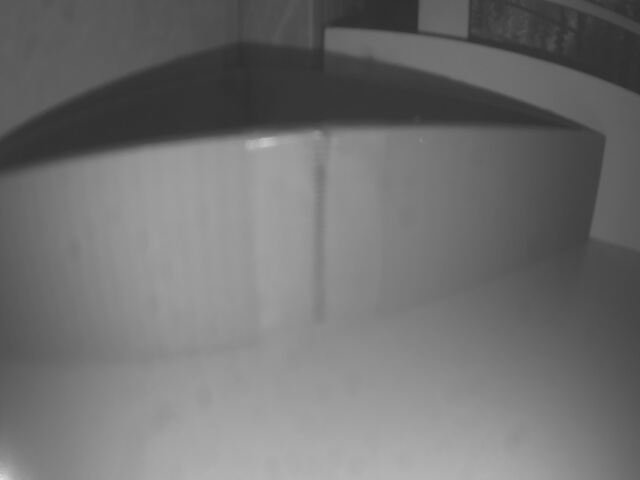Green: (1, 138, 605, 357)
